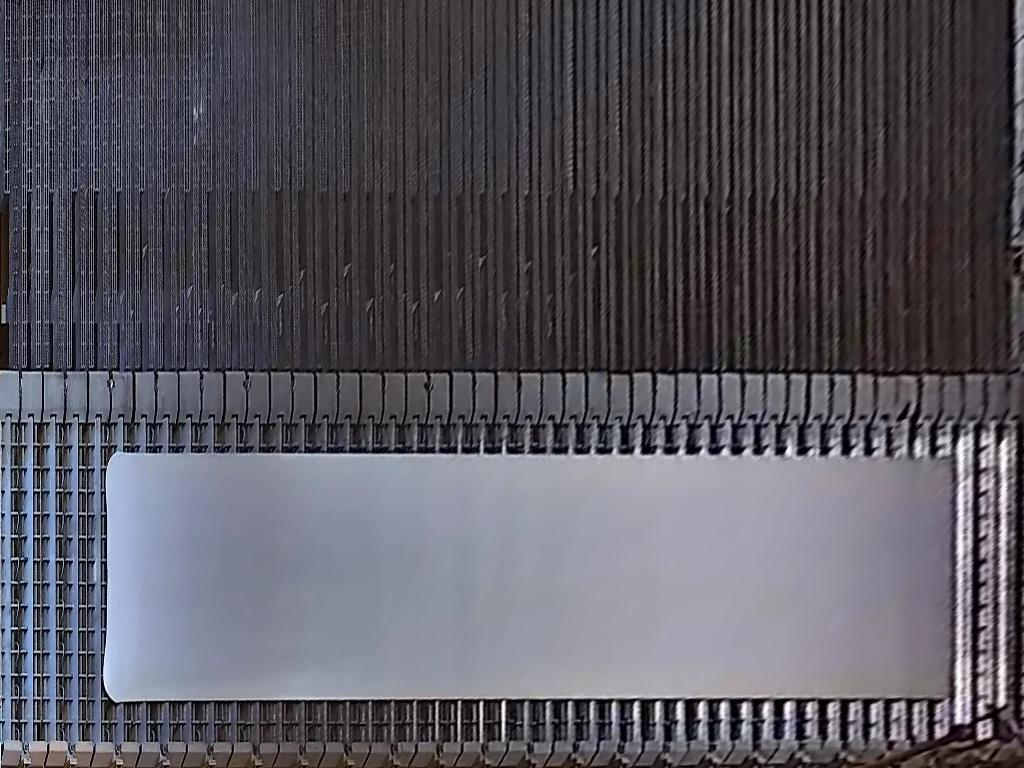steel: (101, 450, 950, 702)
